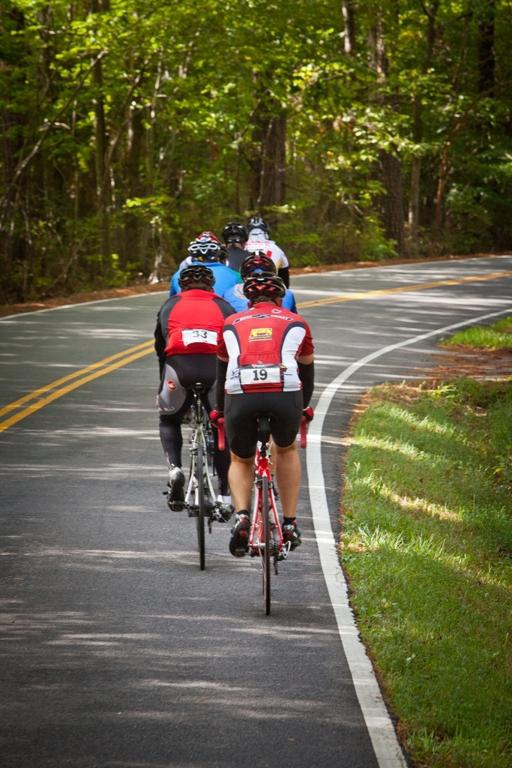non-vehicle: (210, 404, 314, 617), (164, 380, 216, 572)
